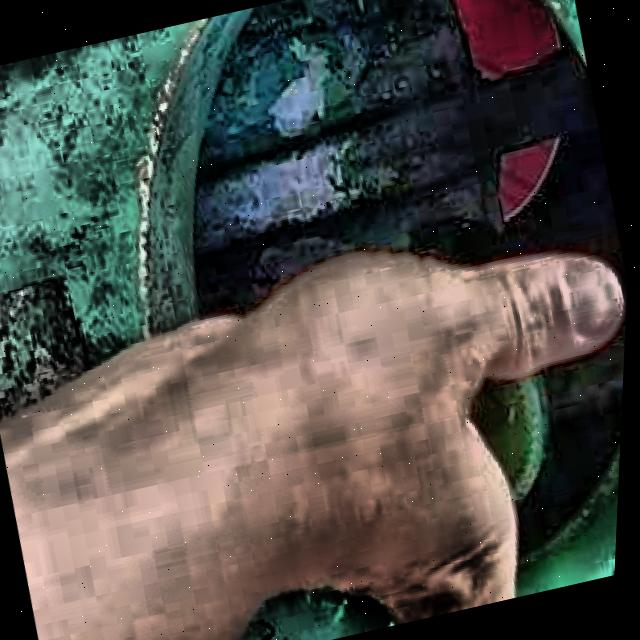glass: (475, 377, 550, 504)
